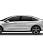car: (1, 17, 43, 34)
